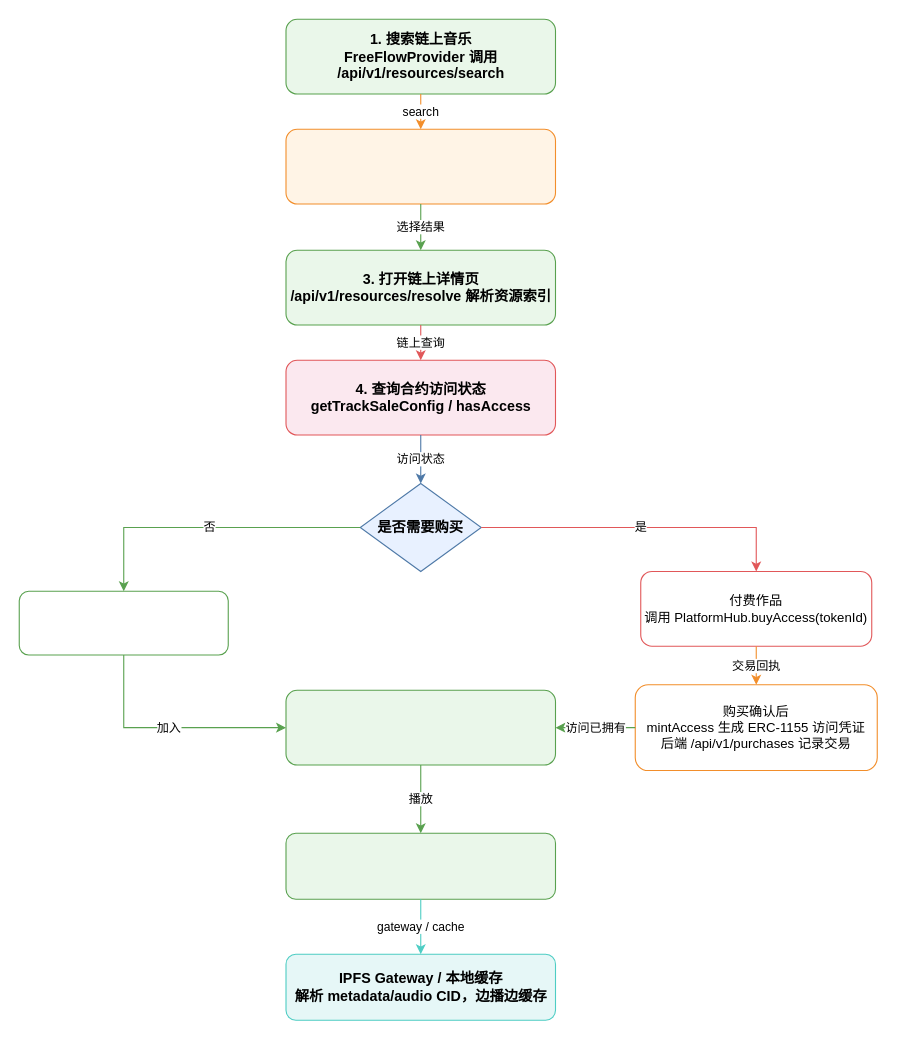
The diagram is 897 pixels wide and 1040 high, and some of its shapes have lost their labels. Here are the shapes that lost their labels. From the top down, the centre of each, then its label:
At point (420, 166): "2. 后端返回排序结果 CreatorRelease + reasons + resourceKey".
At point (123, 622): "公开作品 / 创作者 / 已购买 直接拥有访问权".
At point (420, 727): "加入链上音乐库 upsertChainLibraryTrack 保存 TrackEntity.freeflow".
At point (420, 865): "播放或下载 AudioProxyServer /proxy 支持 Range".
